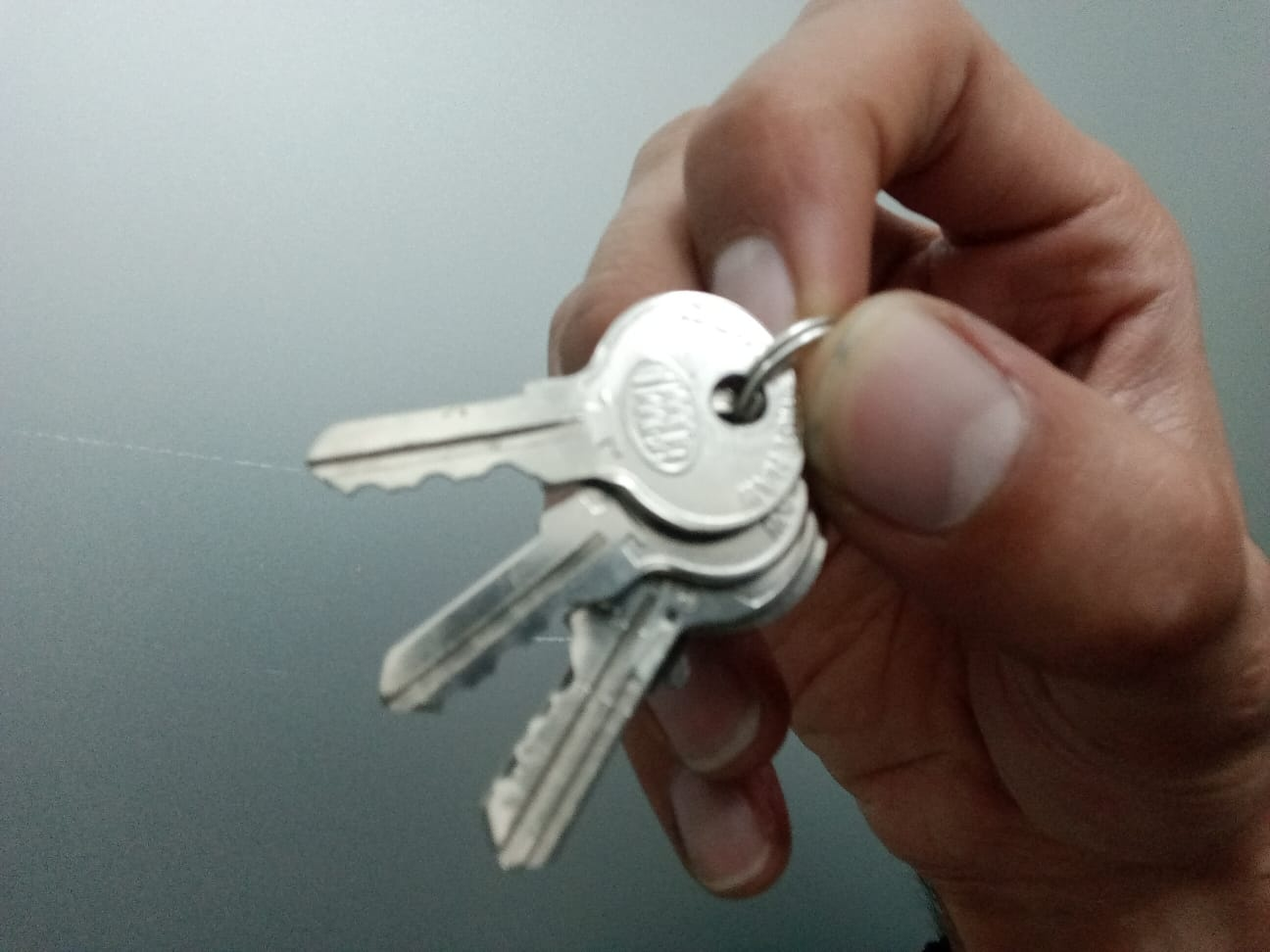Metal: (307, 287, 813, 874)
